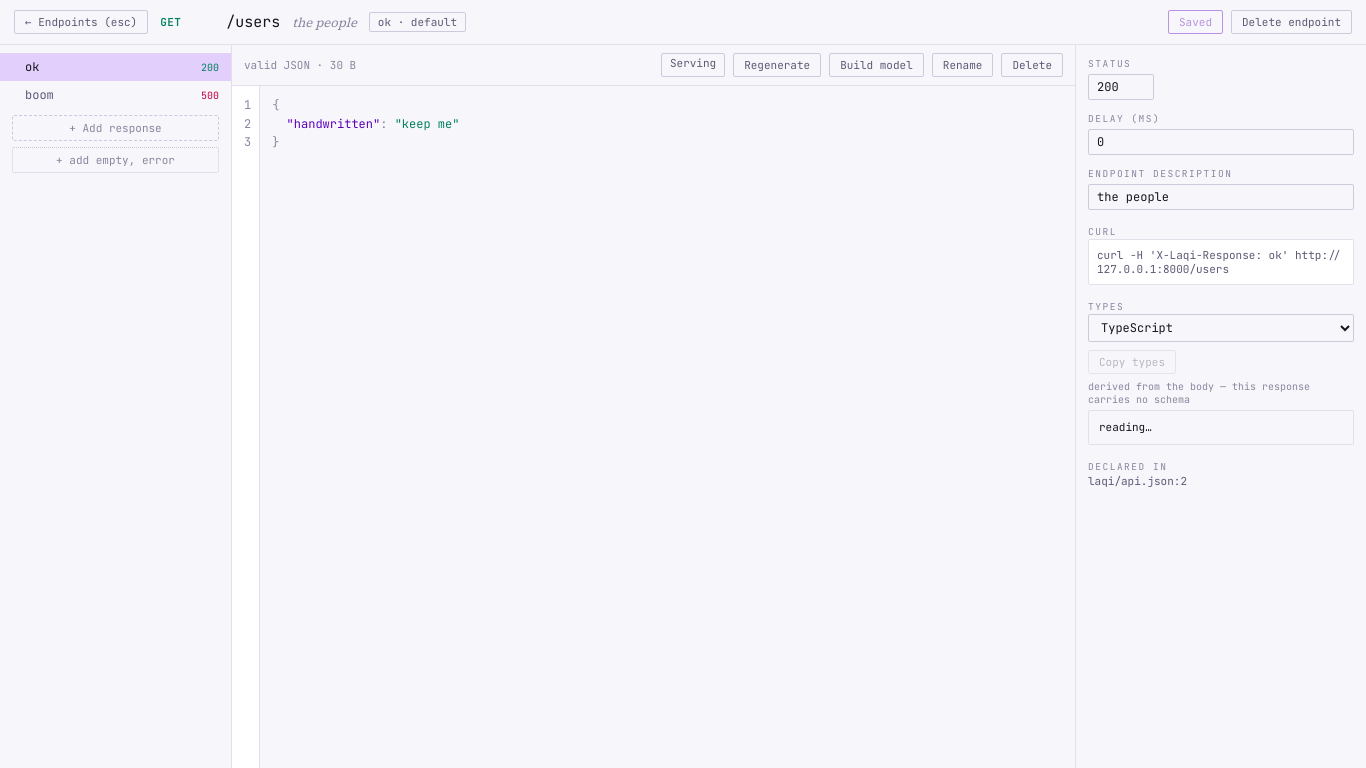
Test: answering a refused write › keeps the bytes that confirming would replace on screen
Click the button "Regenerate" at (777, 65), box [733, 53, 821, 77]
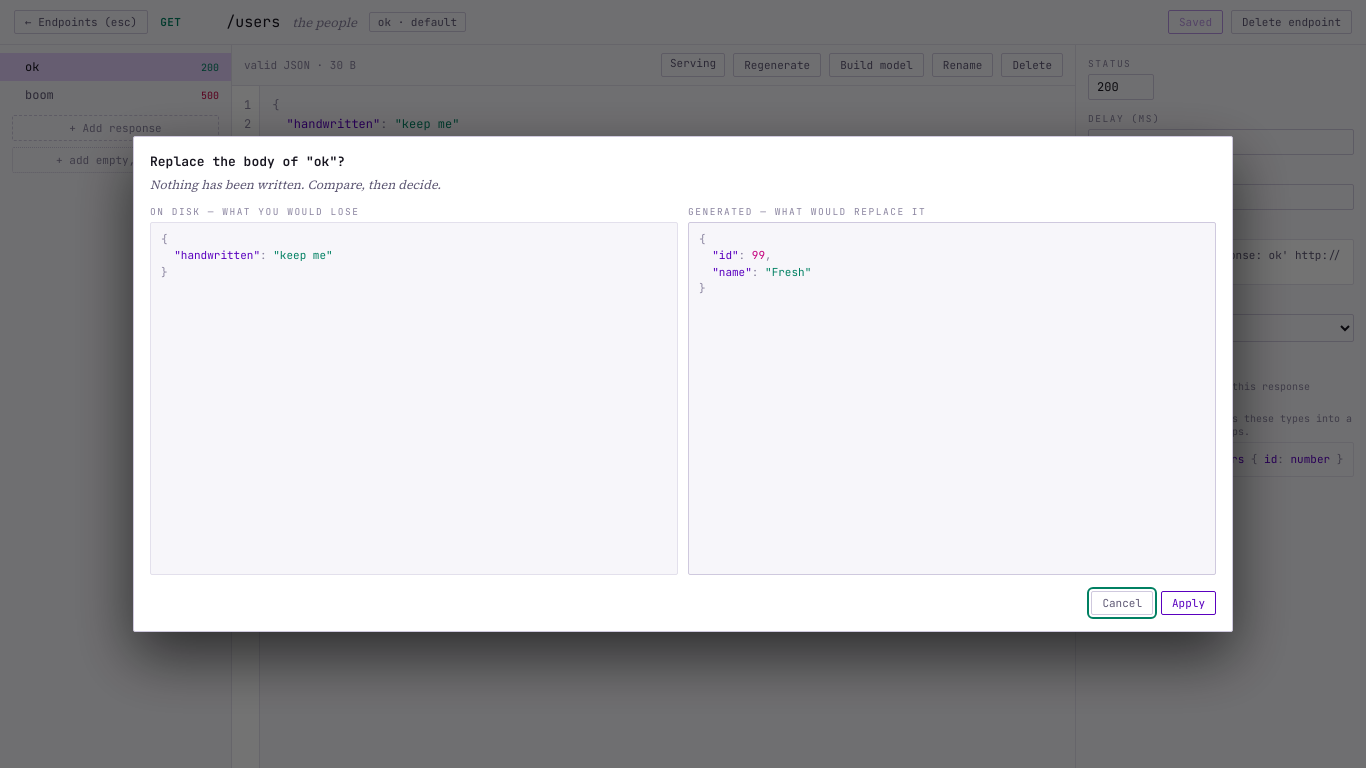
Click the button "Apply" at (1188, 603), box [1161, 591, 1216, 615]
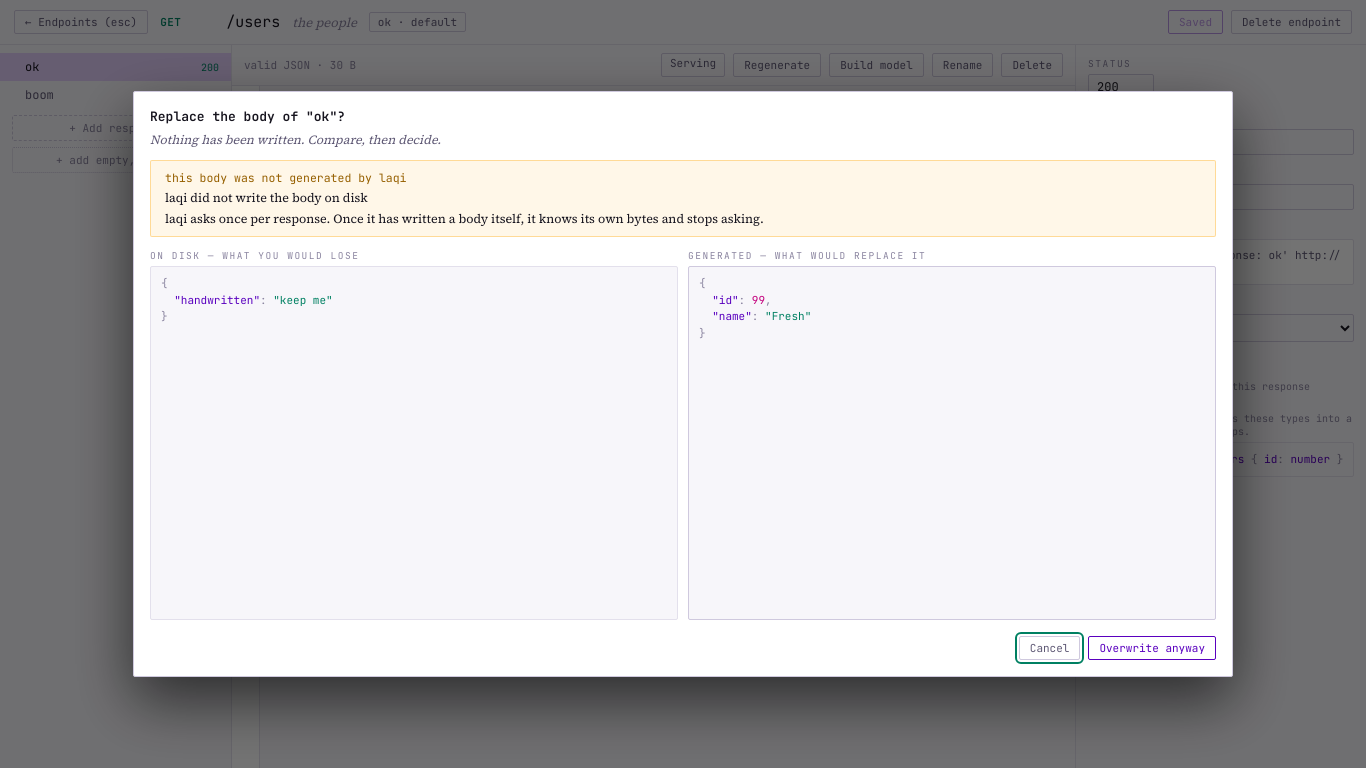
Expected: the element named "body on disk" shows "keep me", [273, 293, 333, 307]
Expected: the button "Overwrite anyway" is shown, [1088, 636, 1216, 660]
